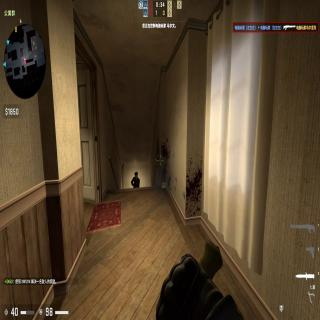T-Head: (134, 172, 138, 180)
